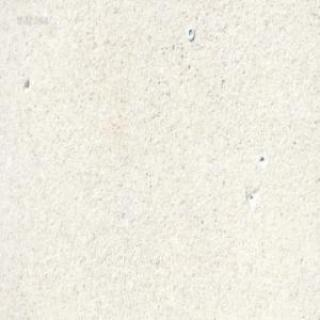Washertrack_idkeyframe: (186, 25, 193, 40)
